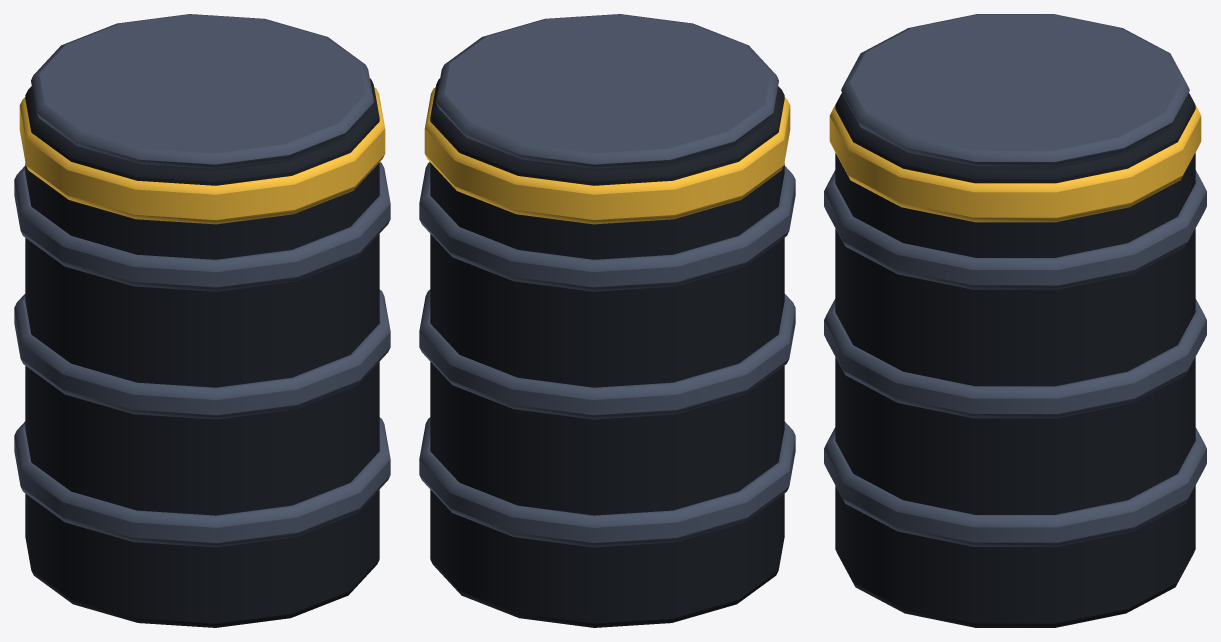
The model's file is barrel.glb.
The picture shows the model from 3 angles, left to right: view 1: azimuth 30°, elevation 25°; view 2: azimuth 150°, elevation 25°; view 3: azimuth 270°, elevation 25°; orthographic projection.
Visible parts, largest first — view 1: barrel; view 2: barrel; view 3: barrel.
Boxes of the visible parts, x1,y1,x2,y2 form: barrel: (14,14,390,627); barrel: (419,14,795,627); barrel: (824,14,1206,627).
Size of the model in its own units: 0.663 by 0.93 by 0.68.
